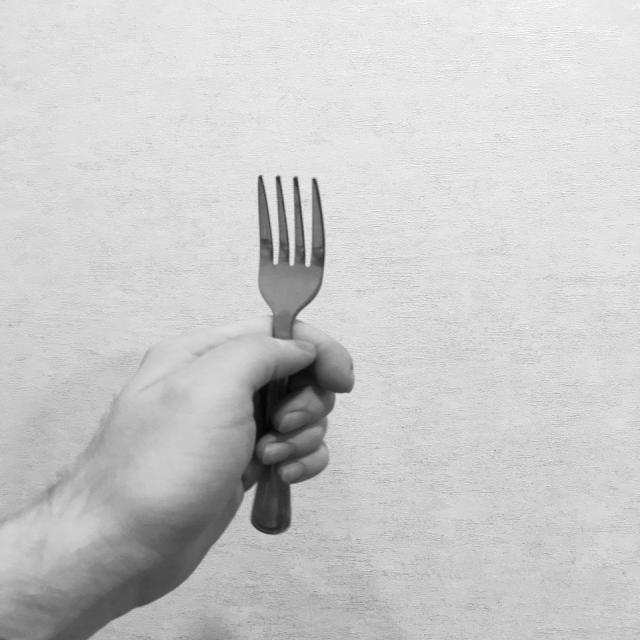fork: (244, 171, 329, 536)
